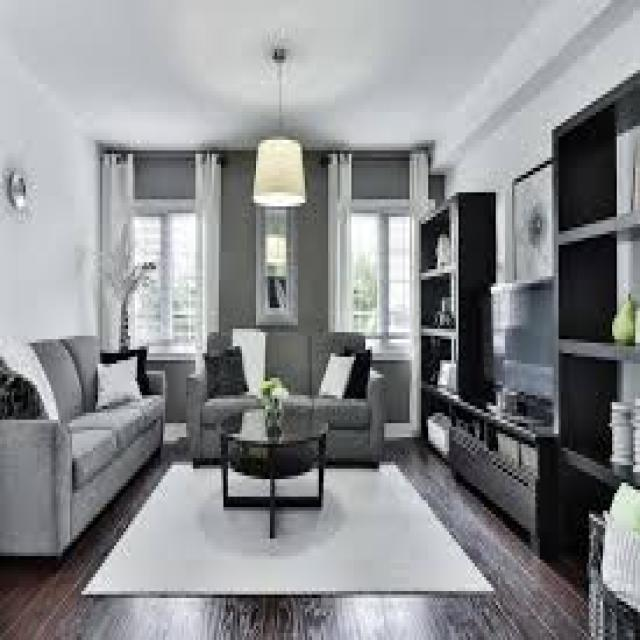Lamp: (247, 39, 313, 230)
Sofa: (0, 337, 168, 566), (187, 310, 388, 469)
Table: (218, 405, 330, 533)
